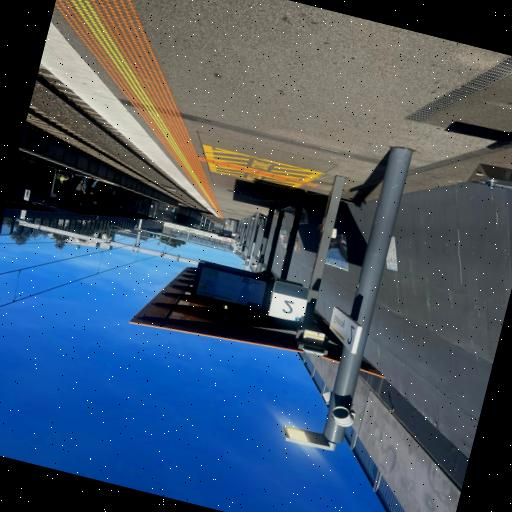clear_path: (54, 0, 507, 222)
platform_edge: (42, 21, 221, 219)
tgsi: (59, 0, 320, 219)
